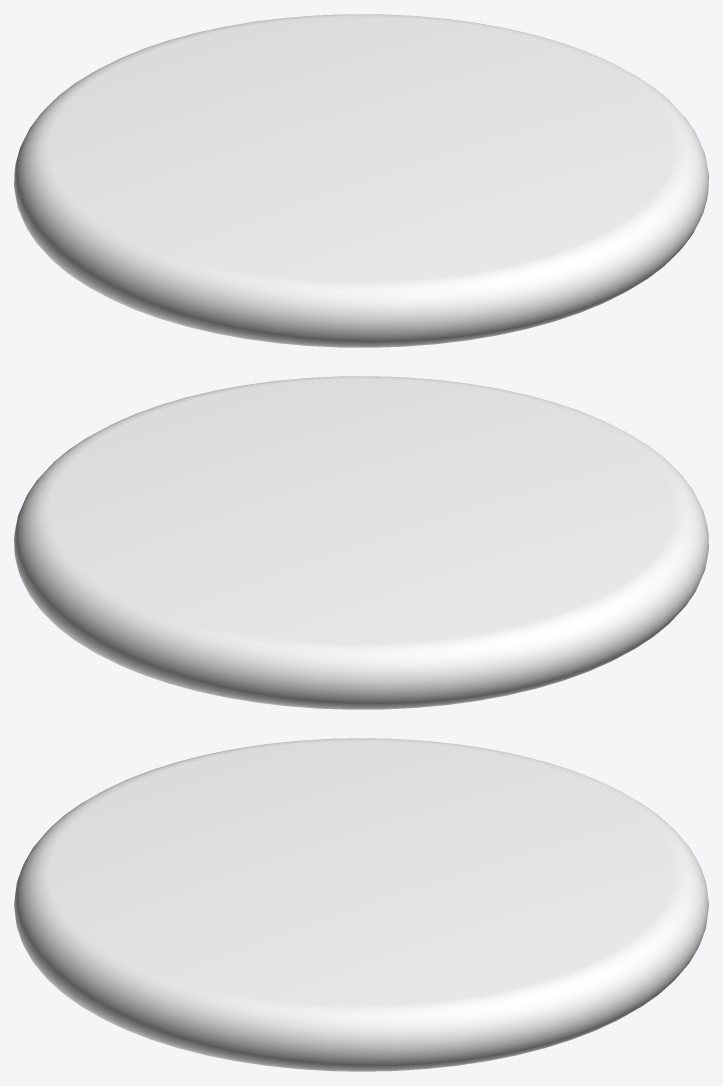
Rendered from disc.glb.
The picture shows the model from 3 angles, top to bottom: view 1: azimuth 30°, elevation 25°; view 2: azimuth 150°, elevation 25°; view 3: azimuth 270°, elevation 25°; orthographic projection.
Visible parts, largest first — view 1: disc; view 2: disc; view 3: disc.
Boxes of the visible parts, bbox=[...] form: disc: bbox=[14, 14, 708, 347]; disc: bbox=[14, 376, 708, 709]; disc: bbox=[14, 738, 708, 1071].
Size of the model in its own units: 1 by 0.1 by 1.
1 material, 1 textured.
